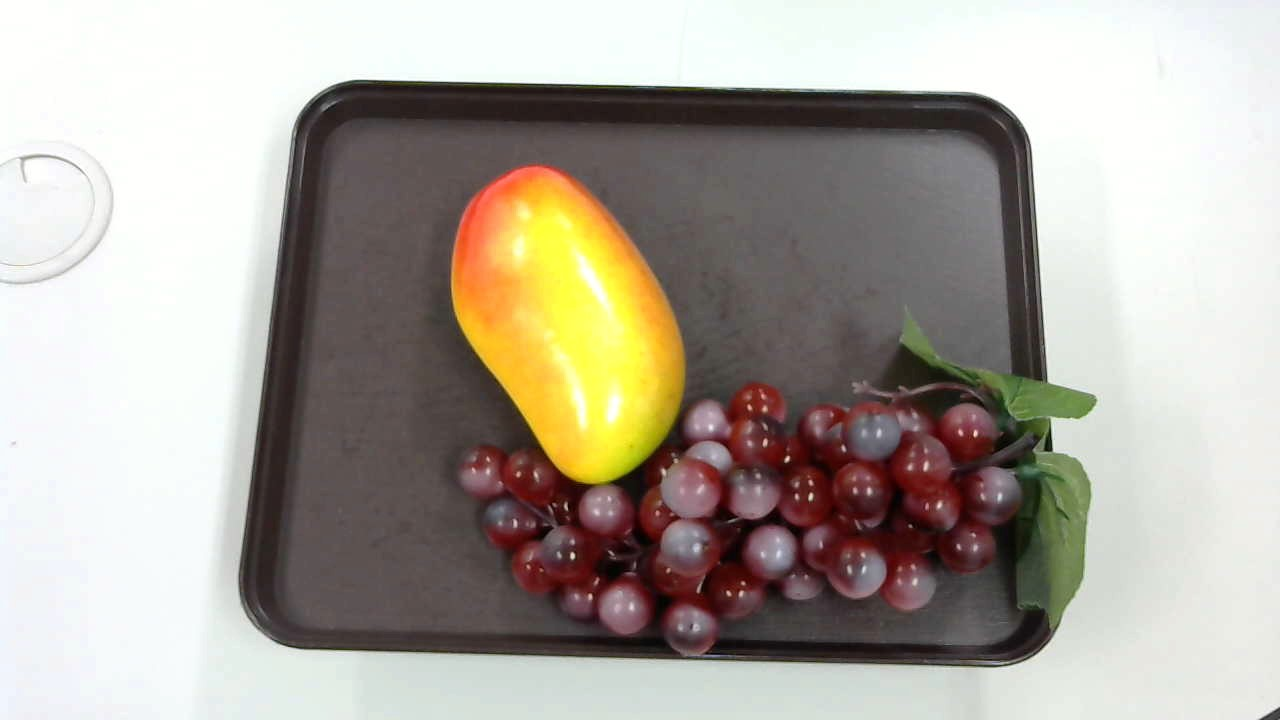grape: (440, 303, 1098, 659)
red mango: (446, 161, 690, 486)
